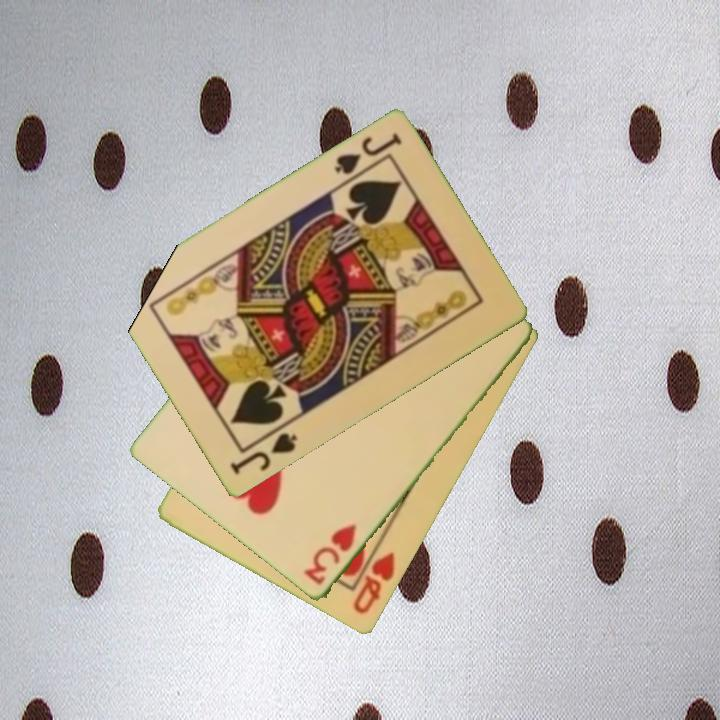3h: (300, 521, 360, 589)
Js: (330, 130, 405, 186), (226, 429, 301, 478)
Qh: (350, 548, 398, 618)
